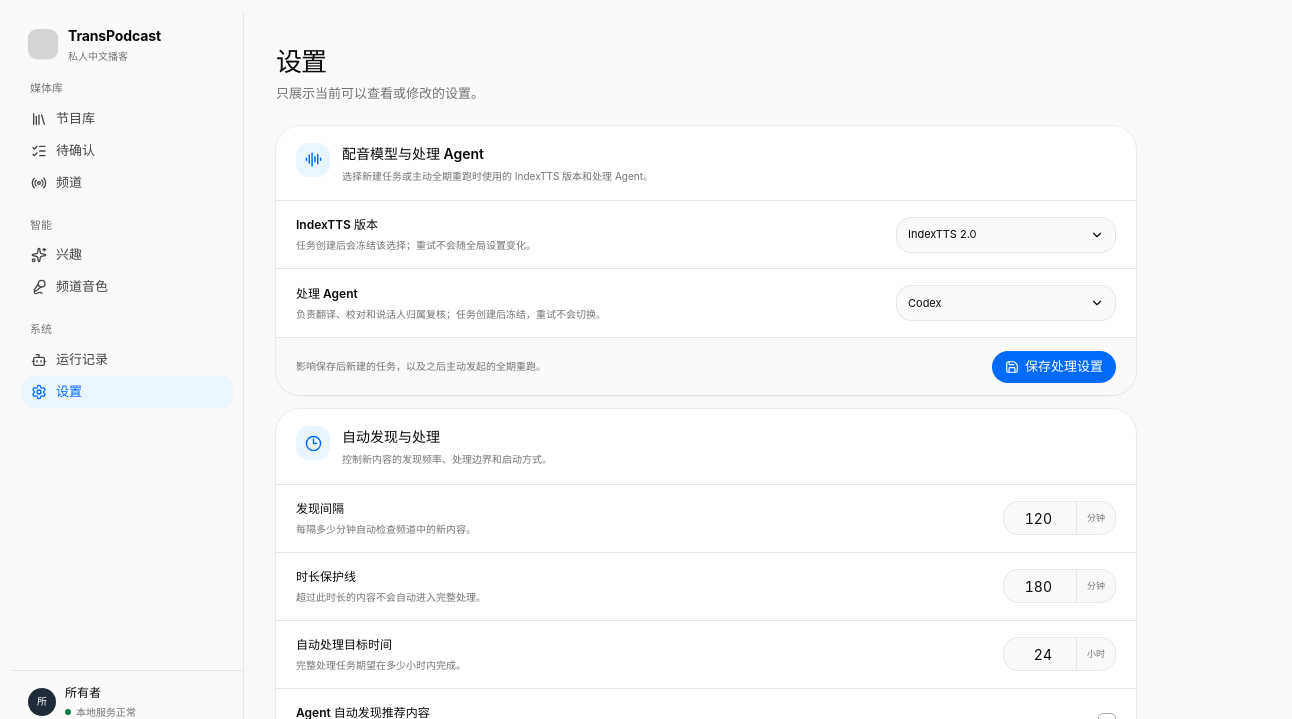
TransPodcast Host navigation › keeps only API-backed controls on the settings page
Expected: the heading "自动发现与处理" is shown, 342,428 -> 440,445
Expected: the heading "配音模型与处理 Agent" is shown, 342,145 -> 484,162
Click the dropdown named "IndexTTS 版本": click(1006, 235) 896,217 -> 1116,253
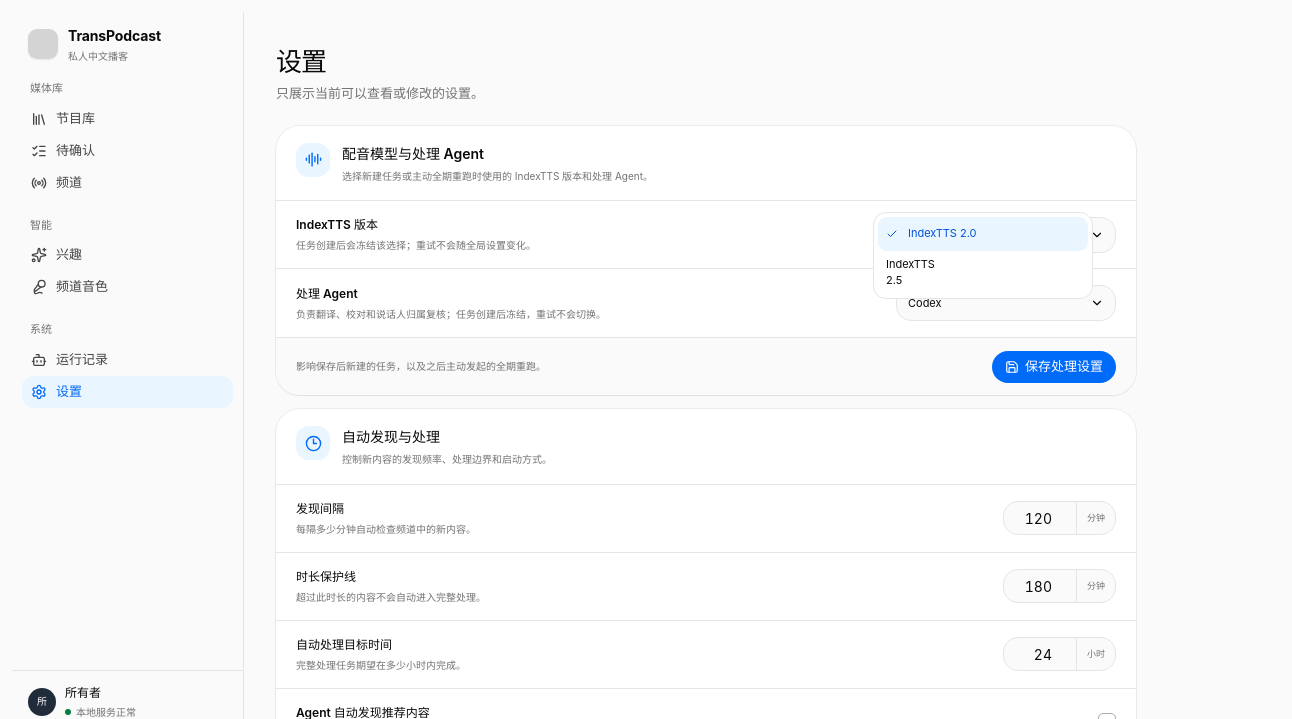
Now the option "IndexTTS 2.5" is shown, box 886,257 -> 935,287
Press Escape
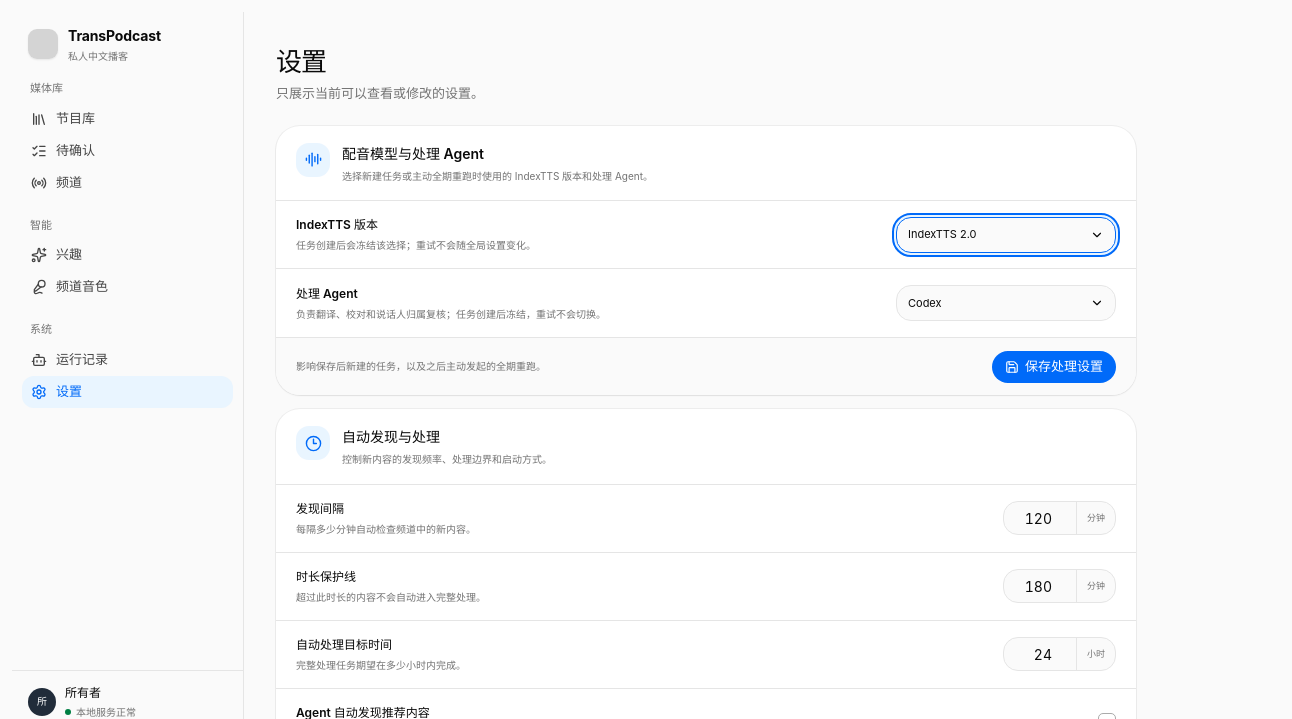
Replace the text in the number field labelled "发现间隔 每隔多少分钟自动检查频道中的新内容。 分钟" with "90": (1040, 518) 1004,502 -> 1076,534
(page scrolled)
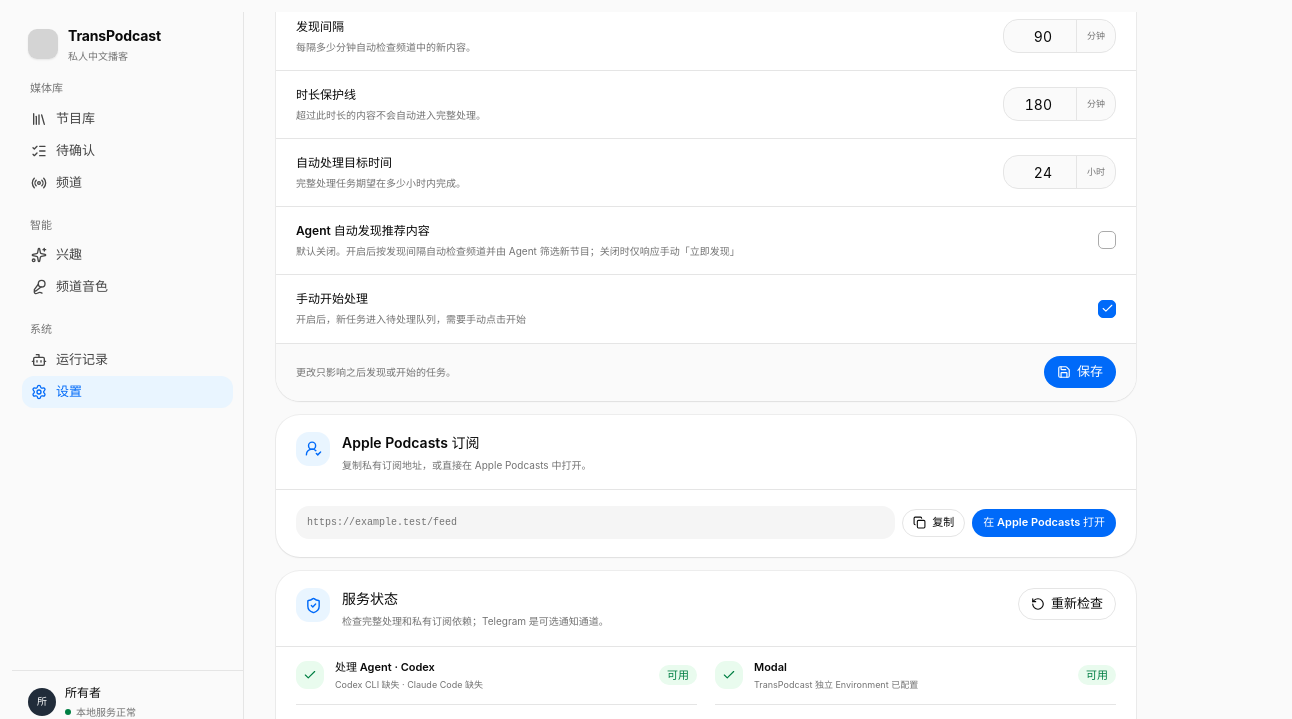
Click the button "保存": click(1080, 372) 1044,356 -> 1116,388
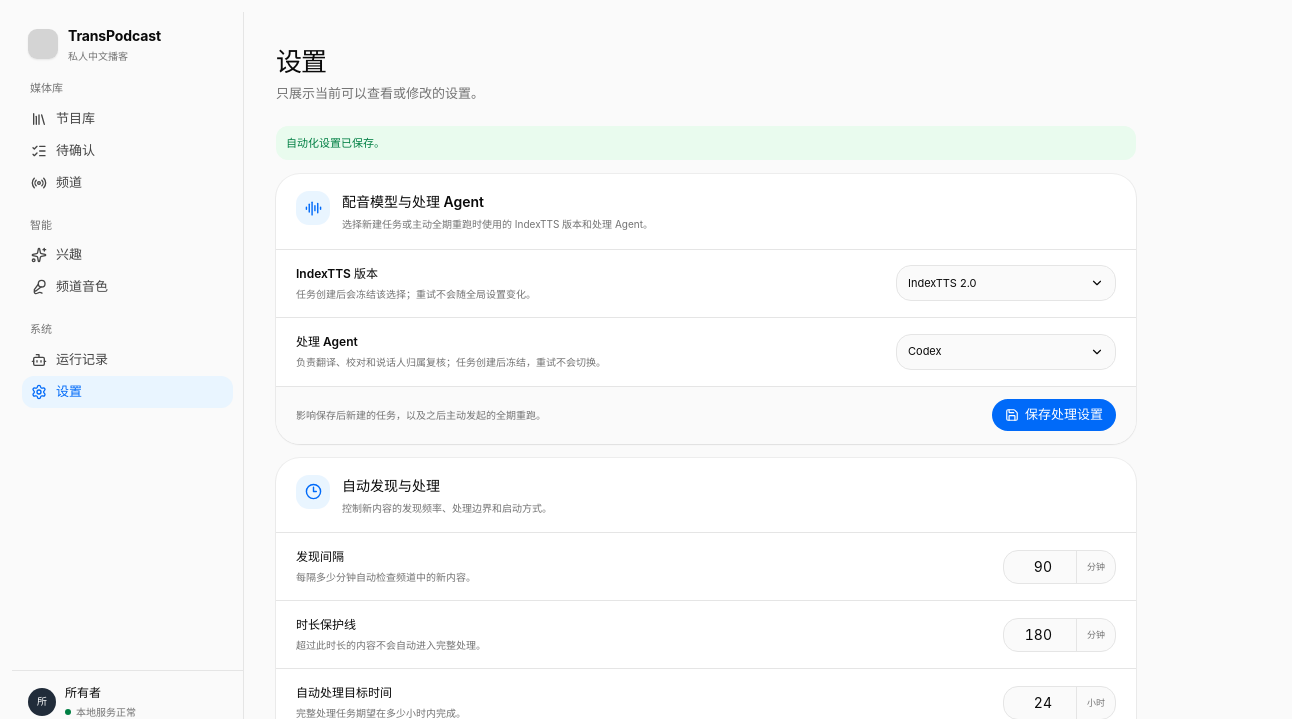
Now the message reads "自动化设置已保存。", box 286,136 -> 385,150
